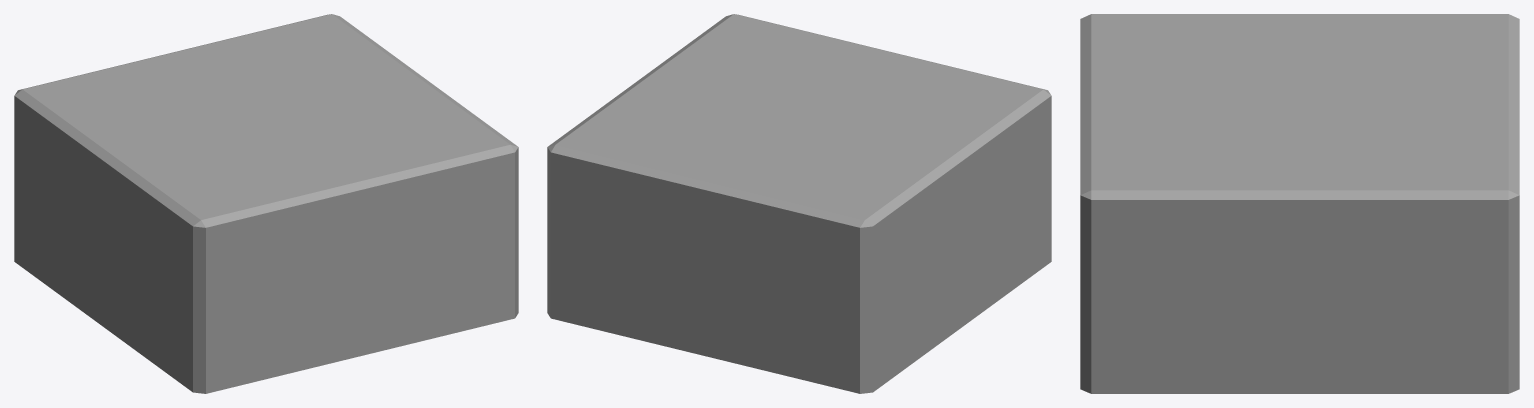
File: Character_Fence1_Skin0.2x2.fbx
The picture shows the model from 3 angles, left to right: view 1: azimuth 30°, elevation 25°; view 2: azimuth 150°, elevation 25°; view 3: azimuth 270°, elevation 25°; orthographic projection. The views are drawn at different scales.
Visible parts, largest first — view 1: Character_Fence1_Skin0; view 2: Character_Fence1_Skin0; view 3: Character_Fence1_Skin0.
Part boxes in pixels (left/top/right/bottom): Character_Fence1_Skin0: left=14, top=14, right=518, bottom=393; Character_Fence1_Skin0: left=547, top=14, right=1051, bottom=393; Character_Fence1_Skin0: left=1080, top=14, right=1519, bottom=393.
Size of the model in its own units: 200 by 100 by 200.
